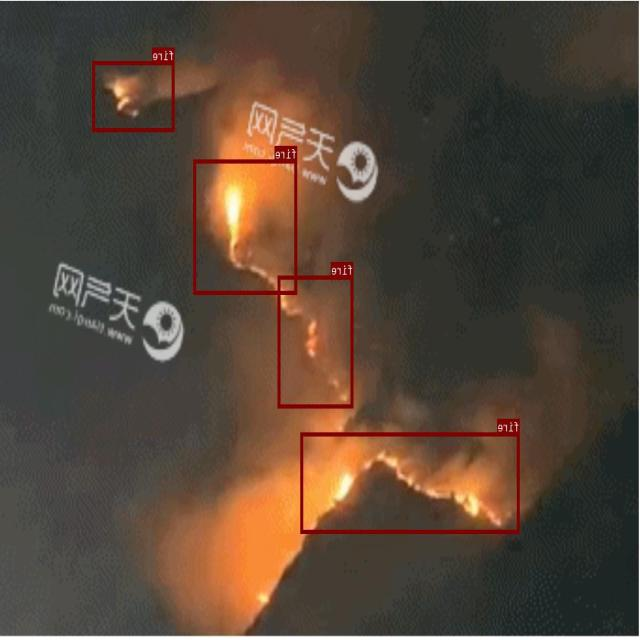fire: (301, 432, 520, 533), (194, 159, 297, 294), (278, 275, 354, 407), (93, 61, 175, 131)
